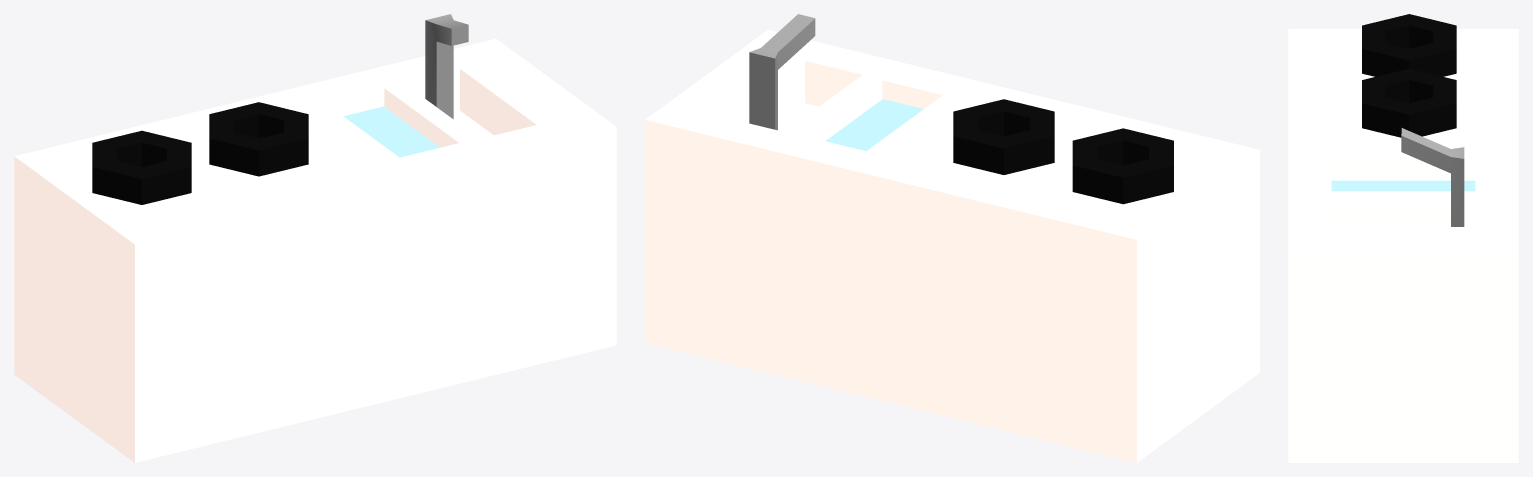
The model's file is Stove.fbx.
The picture shows the model from 3 angles, left to right: view 1: azimuth 30°, elevation 25°; view 2: azimuth 150°, elevation 25°; view 3: azimuth 270°, elevation 25°; orthographic projection. The views are drawn at different scales.
Visible parts, largest first — view 1: Cube; view 2: Cube; view 3: Cube.
Part boxes in pixels (<box>): Cube: <box>14,14,616,462</box>; Cube: <box>645,14,1259,462</box>; Cube: <box>1288,14,1518,462</box>.
Bounding box in the file's own units: 462 × 274 × 200.
